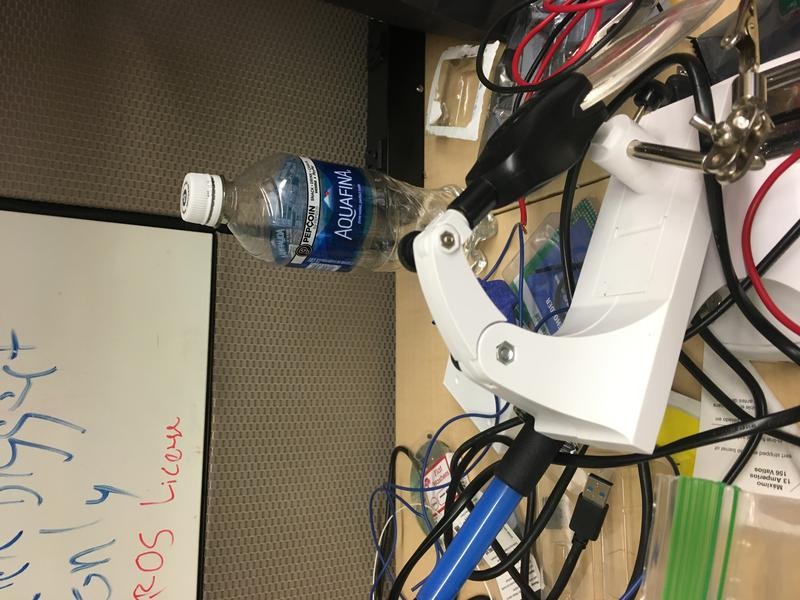bottle: (180, 152, 501, 281)
